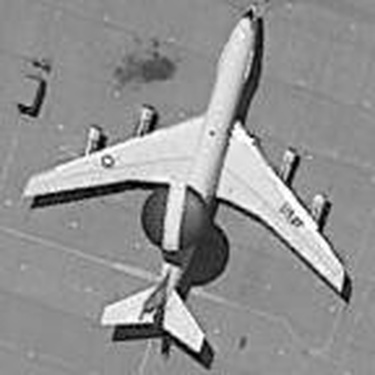airplane: (13, 5, 349, 361)
